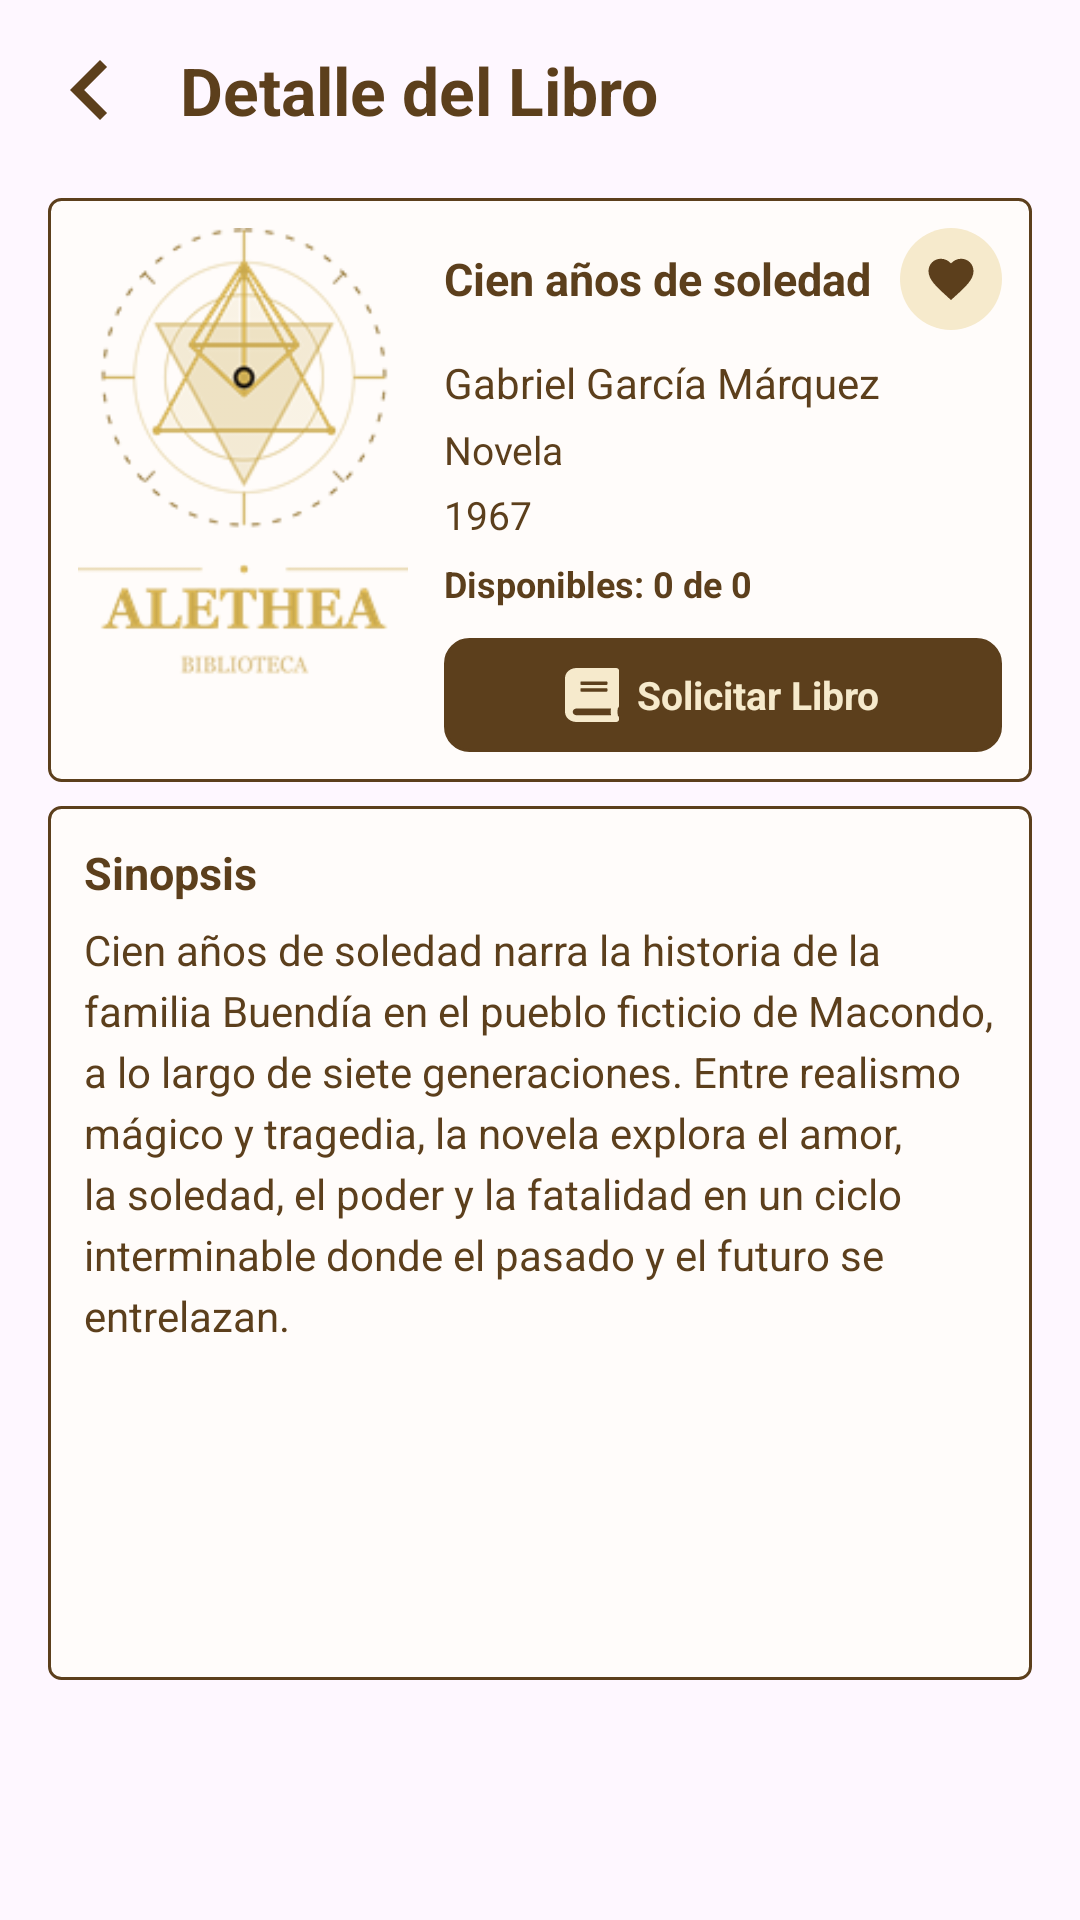

Where icons sit on this 1080*1920 app screen, as {"x1": x1, "y1": y1, "x2": x2, "y2": y2}:
corazon: {"x1": 928, "y1": 258, "x2": 974, "y2": 300}
Regresar: {"x1": 70, "y1": 60, "x2": 107, "y2": 120}
